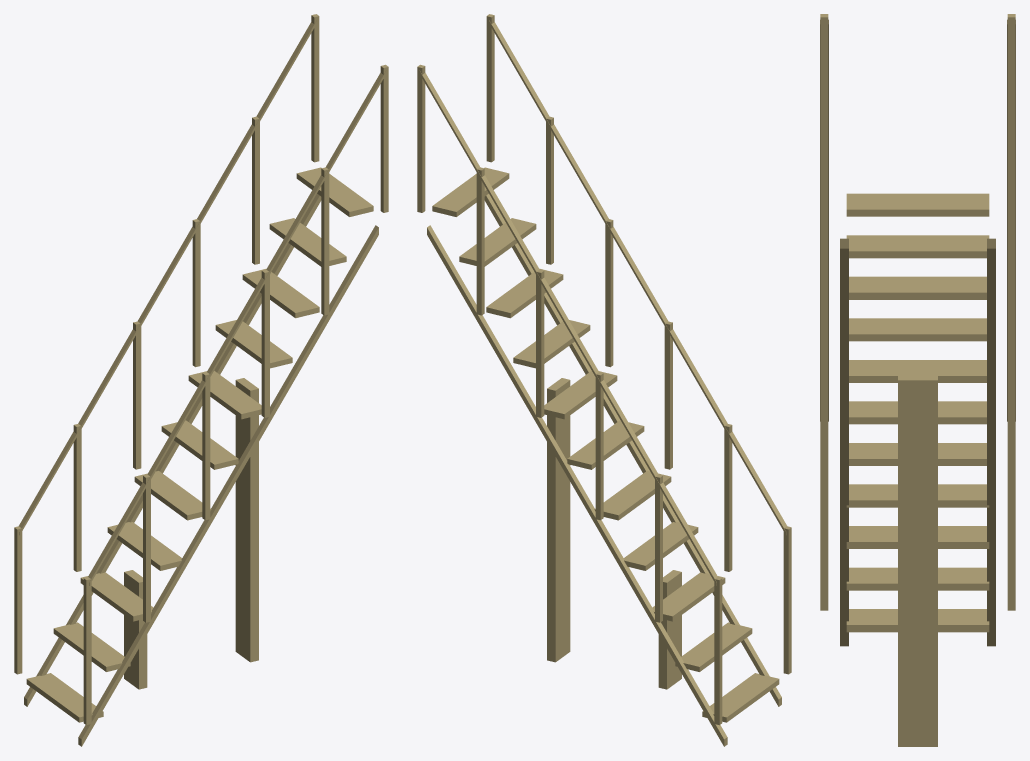
File: SM_Stair_UpperToMain_UpperAccess.fbx
3 renders of one model, left to right at view 1: azimuth 30°, elevation 25°; view 2: azimuth 150°, elevation 25°; view 3: azimuth 270°, elevation 25°, orthographic. The views are drawn at different scales.
Parts seen in each view (by area): view 1: SM_Stair_UpperToMain_UpperAccess; view 2: SM_Stair_UpperToMain_UpperAccess; view 3: SM_Stair_UpperToMain_UpperAccess.
Part boxes in pixels (<box>): SM_Stair_UpperToMain_UpperAccess: <box>14,14,388,746</box>; SM_Stair_UpperToMain_UpperAccess: <box>417,14,791,746</box>; SM_Stair_UpperToMain_UpperAccess: <box>820,14,1015,746</box>.
Bounding box in the file's own units: 212 × 88 × 410.
